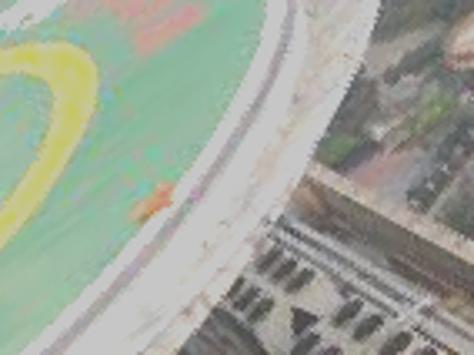Apron: (1, 34, 102, 262)
